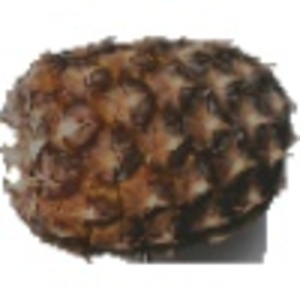abacaxi: (6, 31, 292, 255)
